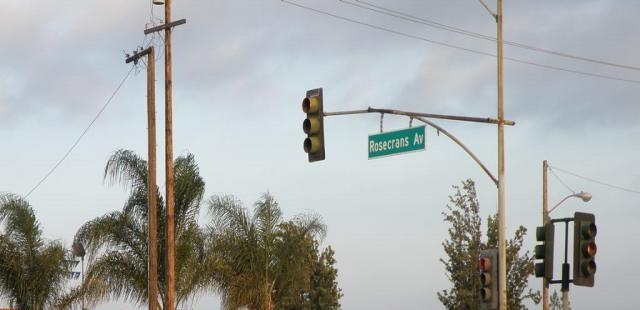red_light: (478, 248, 496, 310)
yellow_light: (574, 212, 597, 287)
